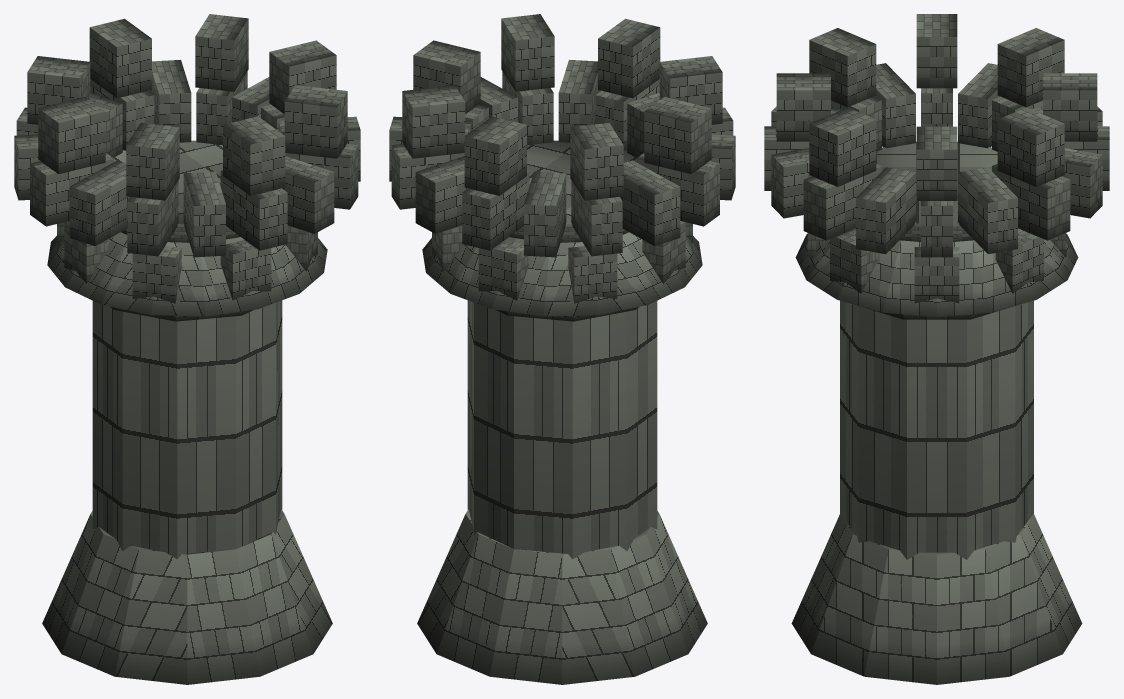
Rendered from wall_corner.gltf.
The picture shows the model from 3 angles, left to right: view 1: azimuth 30°, elevation 25°; view 2: azimuth 150°, elevation 25°; view 3: azimuth 270°, elevation 25°; orthographic projection.
Visible parts, largest first — view 1: wall_corner; view 2: wall_corner; view 3: wall_corner.
Part boxes in pixels (left/top/right/bottom): wall_corner: left=14, top=14, right=360, bottom=684; wall_corner: left=389, top=14, right=735, bottom=684; wall_corner: left=764, top=14, right=1109, bottom=684.
Size of the model in its own units: 0.8544 by 1.48 by 0.8544.
Materials: 1 (1 with a texture image).
